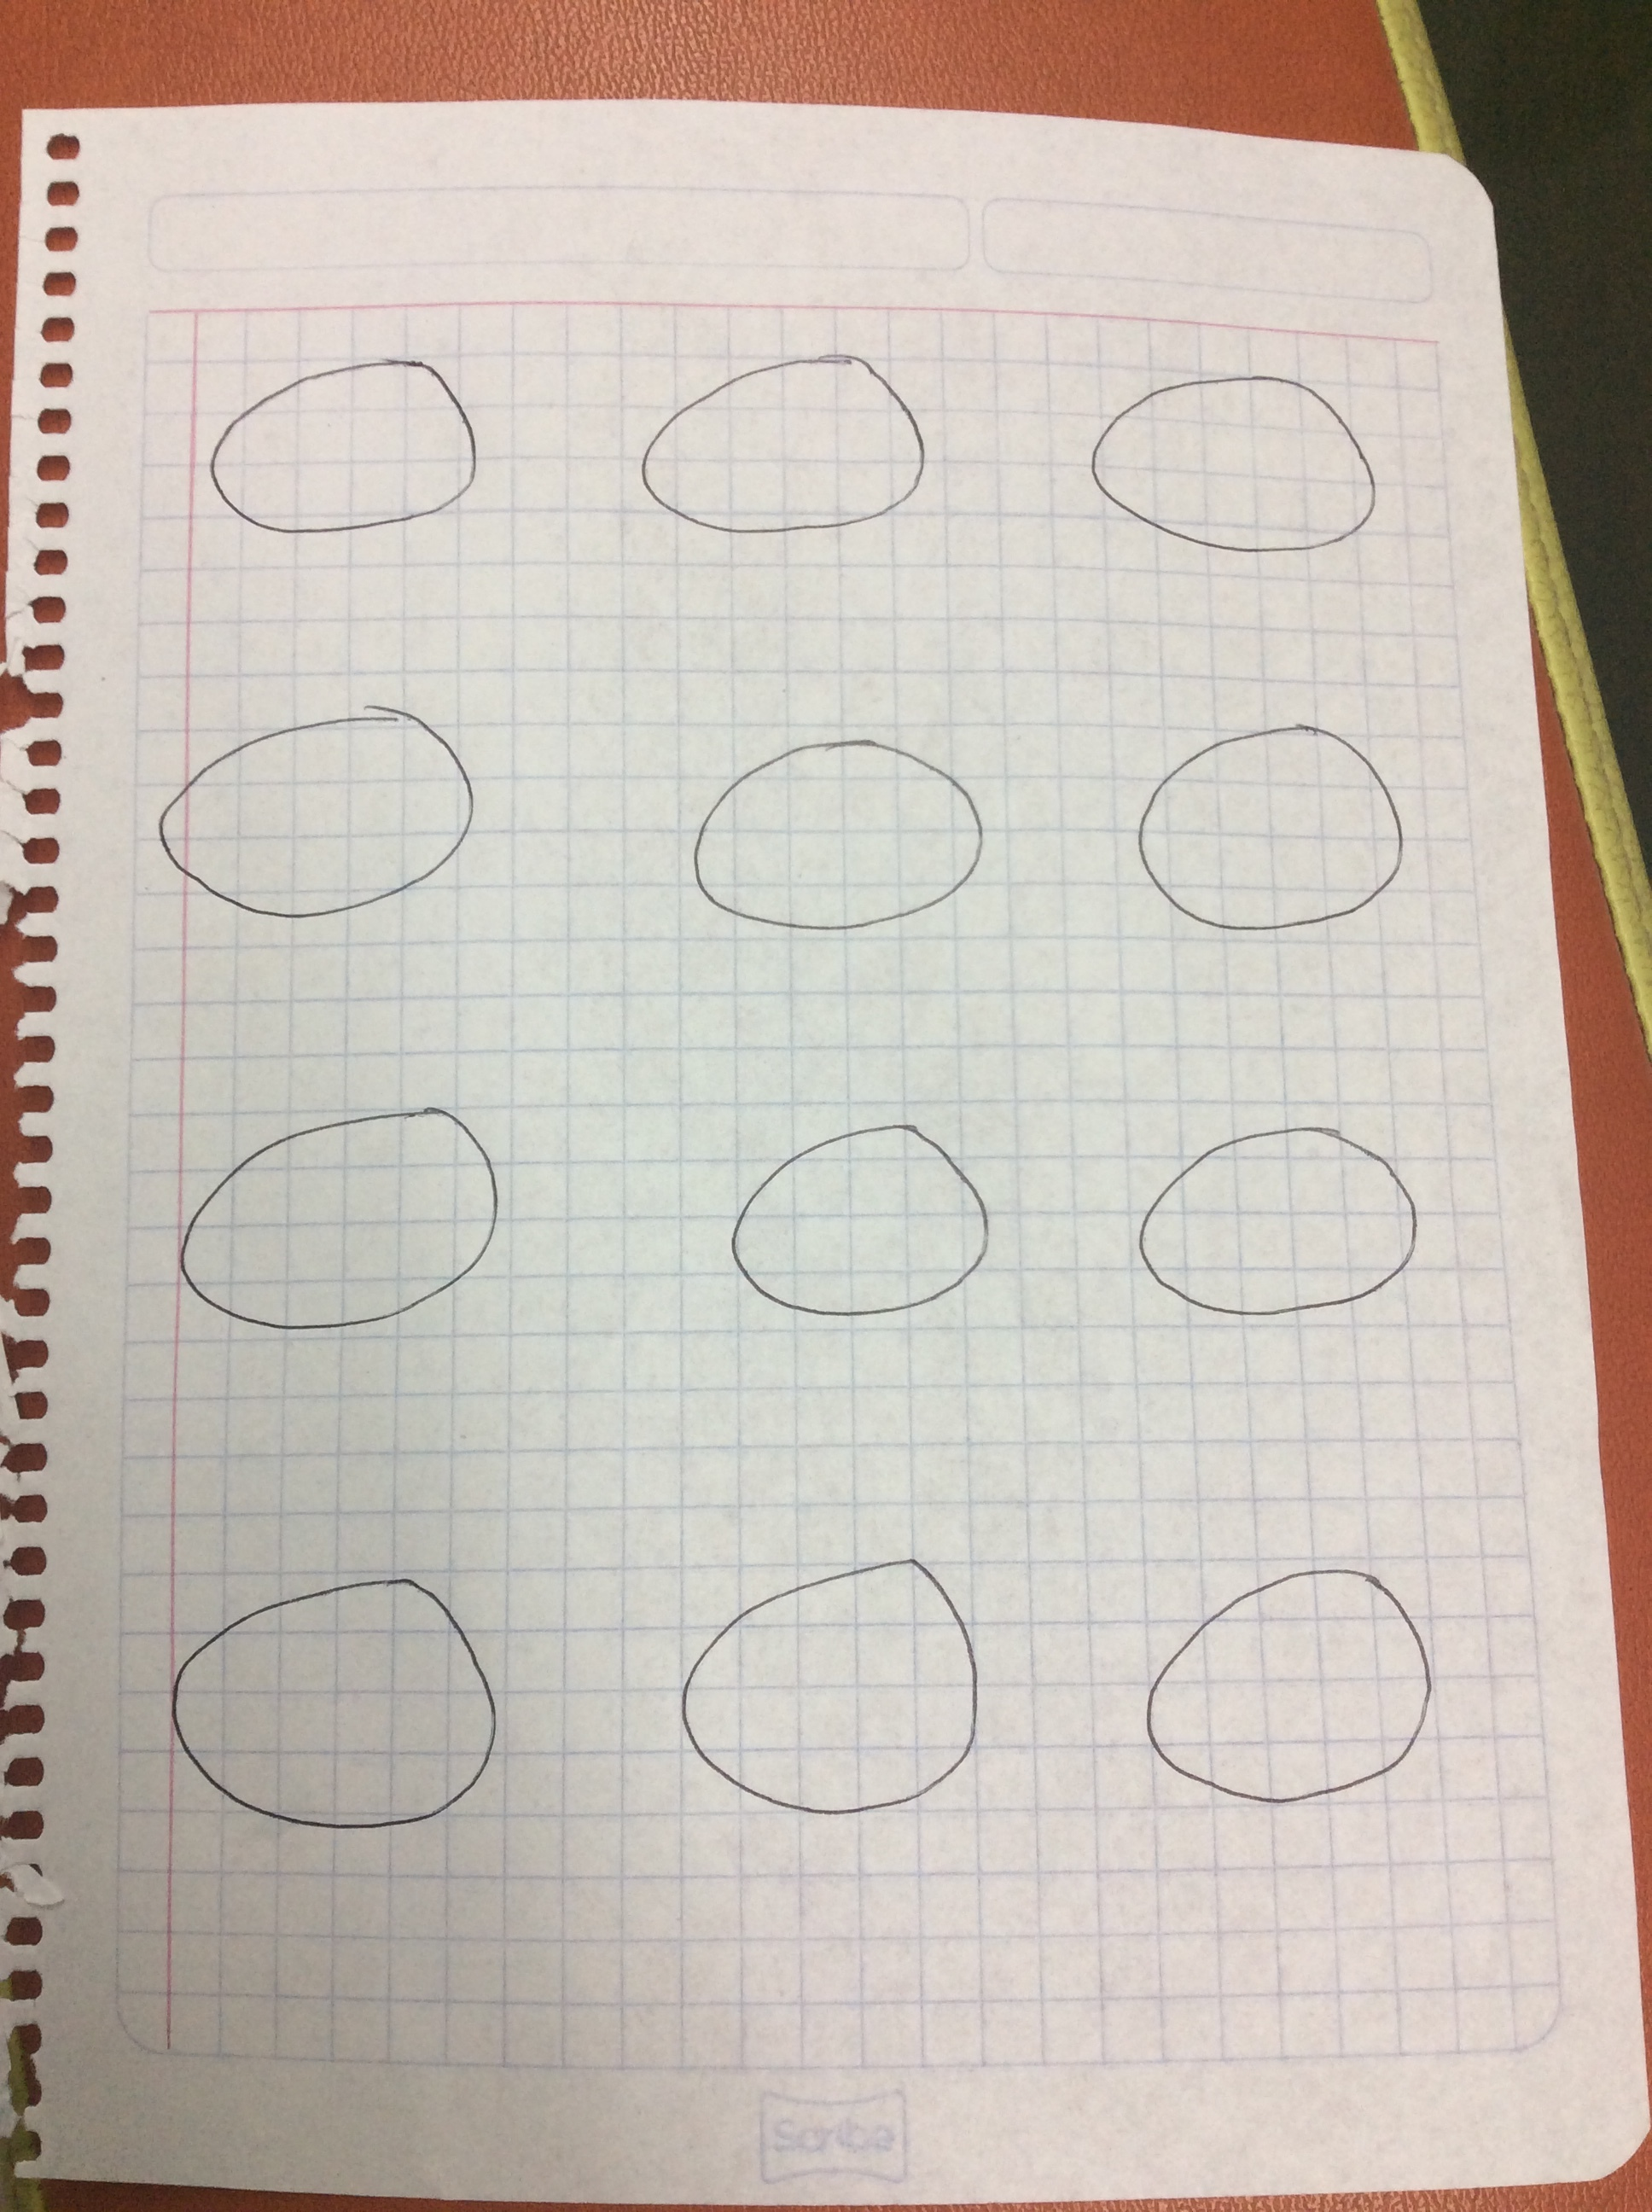start_end: (633, 1509, 1008, 1863), (146, 1563, 524, 1856), (1104, 1539, 1459, 1837), (158, 1069, 517, 1348), (139, 680, 503, 932), (1107, 692, 1445, 959), (1104, 1096, 1463, 1338), (1057, 345, 1411, 586), (602, 335, 951, 574), (665, 720, 1012, 956), (677, 1109, 1026, 1341), (193, 335, 510, 571)
